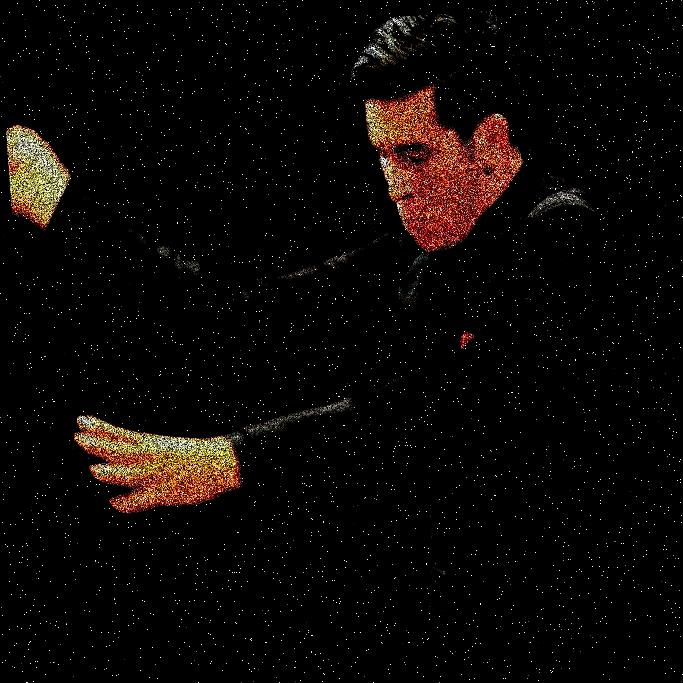Pessoa: (399, 0, 588, 682)
